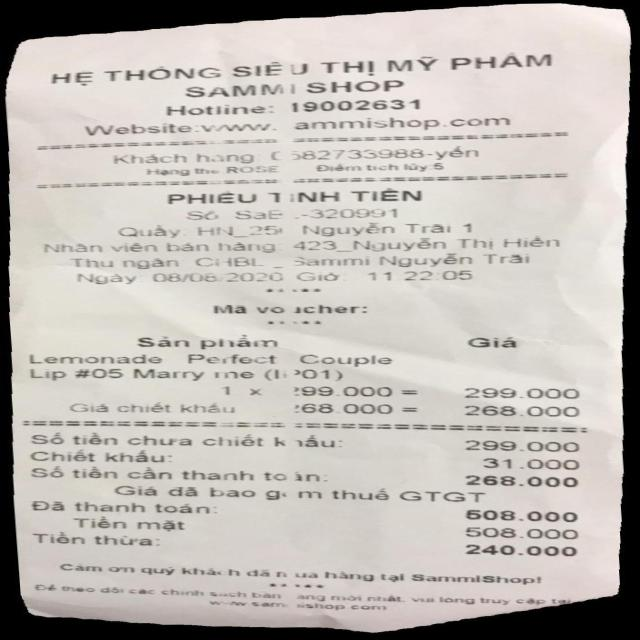Date: (148, 271, 285, 284)
Store_Name: (37, 50, 564, 94)
amount_number: (457, 472, 586, 490)
label_total: (24, 465, 327, 485)
